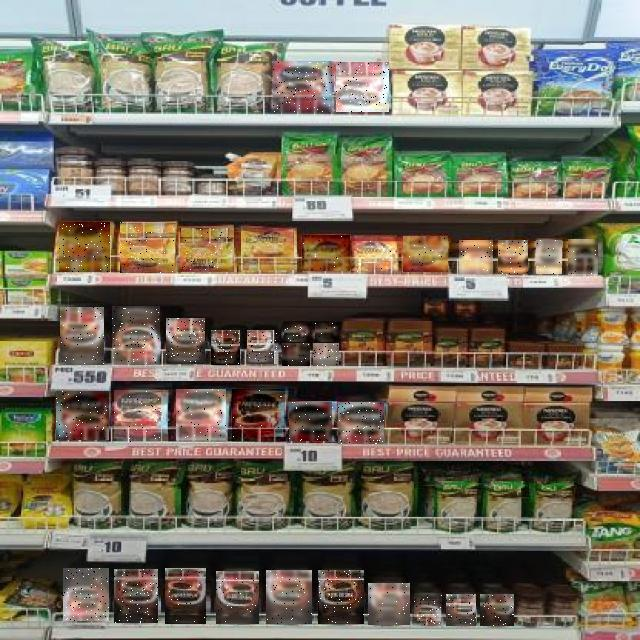Coffee: (273, 62, 332, 112), (121, 222, 177, 273), (232, 389, 285, 442), (115, 390, 169, 442), (112, 307, 160, 365), (336, 62, 389, 112), (176, 390, 226, 442), (56, 391, 109, 440), (61, 307, 105, 365), (59, 222, 110, 272), (266, 570, 312, 624), (319, 570, 365, 624), (166, 568, 210, 624), (63, 568, 109, 621), (114, 569, 158, 623), (180, 228, 234, 272), (216, 571, 259, 624), (241, 228, 294, 270), (338, 402, 384, 444), (166, 318, 205, 364), (368, 583, 410, 625), (302, 235, 350, 271), (290, 402, 334, 441), (403, 236, 448, 272), (355, 235, 397, 273), (459, 240, 493, 274), (481, 594, 515, 626), (568, 240, 598, 276), (498, 241, 528, 275), (248, 330, 278, 364), (211, 330, 240, 365), (447, 594, 477, 626), (415, 593, 443, 625), (536, 240, 562, 274), (282, 343, 310, 366), (313, 343, 339, 366), (284, 323, 310, 342), (315, 323, 339, 342)
